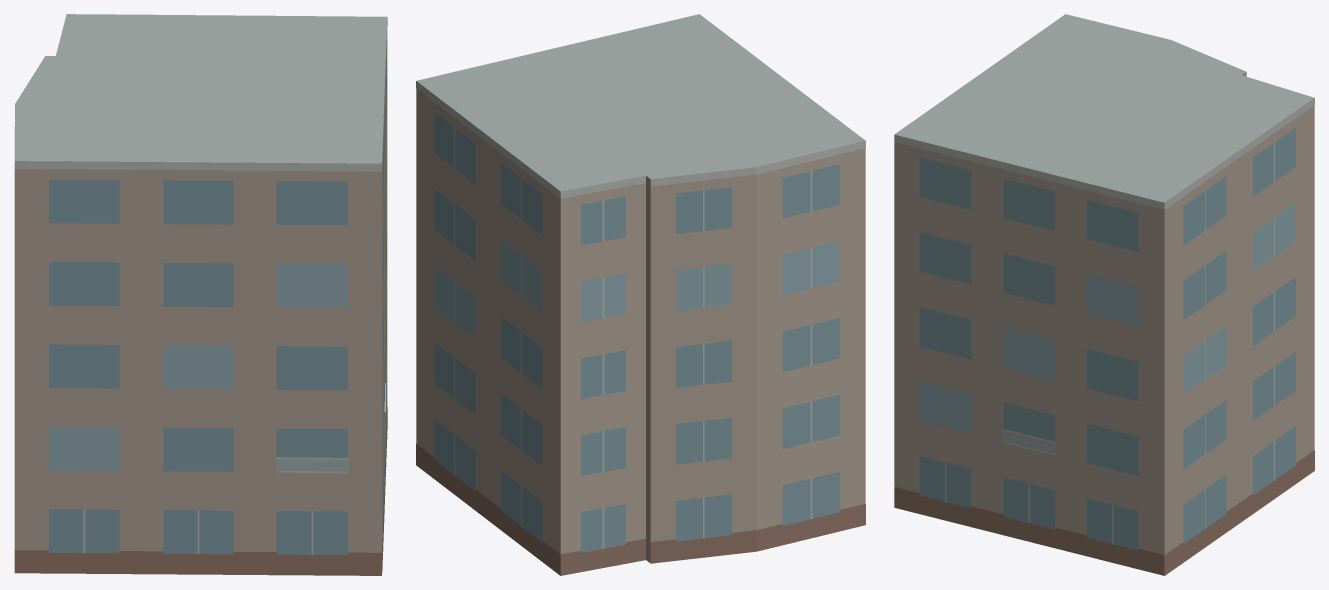
The model's file is survey-upis-32667356.glb.
3 views of the same model, side by side, from view 1: azimuth 30°, elevation 25°; view 2: azimuth 150°, elevation 25°; view 3: azimuth 270°, elevation 25° (orthographic). The views are drawn at different scales.
Visible parts, largest first — view 1: survey-upis-32667356.tmp; view 2: survey-upis-32667356.tmp; view 3: survey-upis-32667356.tmp.
Boxes of the visible parts, bbox=[...] form: survey-upis-32667356.tmp: bbox=[14, 14, 387, 575]; survey-upis-32667356.tmp: bbox=[416, 14, 865, 575]; survey-upis-32667356.tmp: bbox=[894, 14, 1314, 575].
Size of the model in its own units: 13.79 by 12.7 by 12.98.
